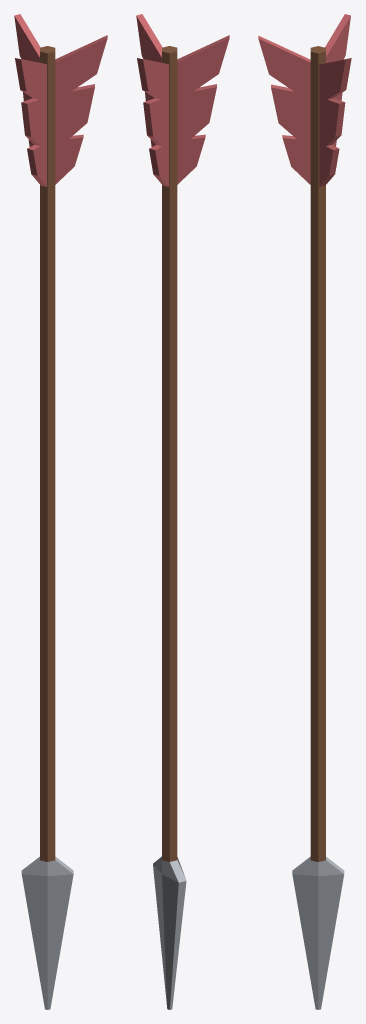
File: Arrow.fbx
3 views of the same model, side by side, from view 1: azimuth 90°, elevation 25°; view 2: azimuth 210°, elevation 25°; view 3: azimuth 270°, elevation 25° (orthographic).
Visible parts, largest first — view 1: Arrow; view 2: Arrow; view 3: Arrow.
Boxes of the visible parts, box(x1,y1,x2,y2) form: Arrow: box(14, 14, 107, 1009); Arrow: box(136, 14, 229, 1009); Arrow: box(258, 14, 351, 1009).
Bounding box in the file's own units: 27.41 × 273 × 23.83.
